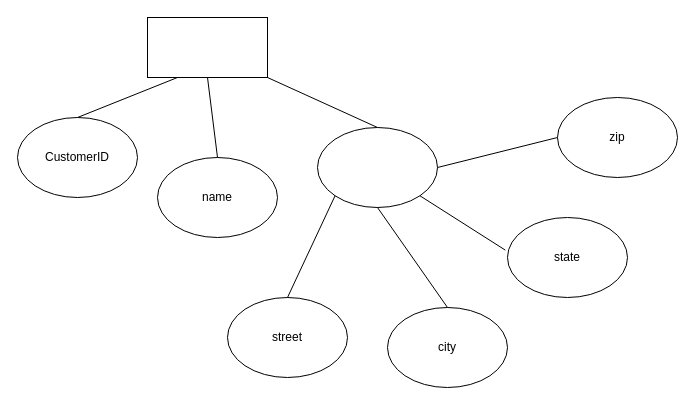
This 695x405 diagram has some shape labels left out. The centre of each missing label's shape, as x and y in pixels:
Address: [377,167]
Customer: [207,47]
